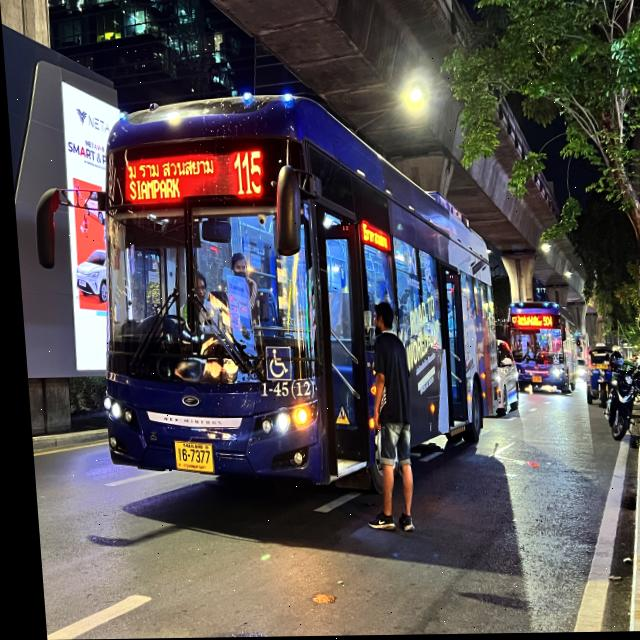Bus Line Number: (226, 143, 263, 198), (537, 315, 547, 331)
Bus Side Number: (251, 379, 309, 403), (546, 366, 559, 371)
Destination Sign: (120, 152, 217, 205), (509, 316, 538, 330)
TSB-Bus: (75, 81, 506, 528), (500, 295, 576, 397)
